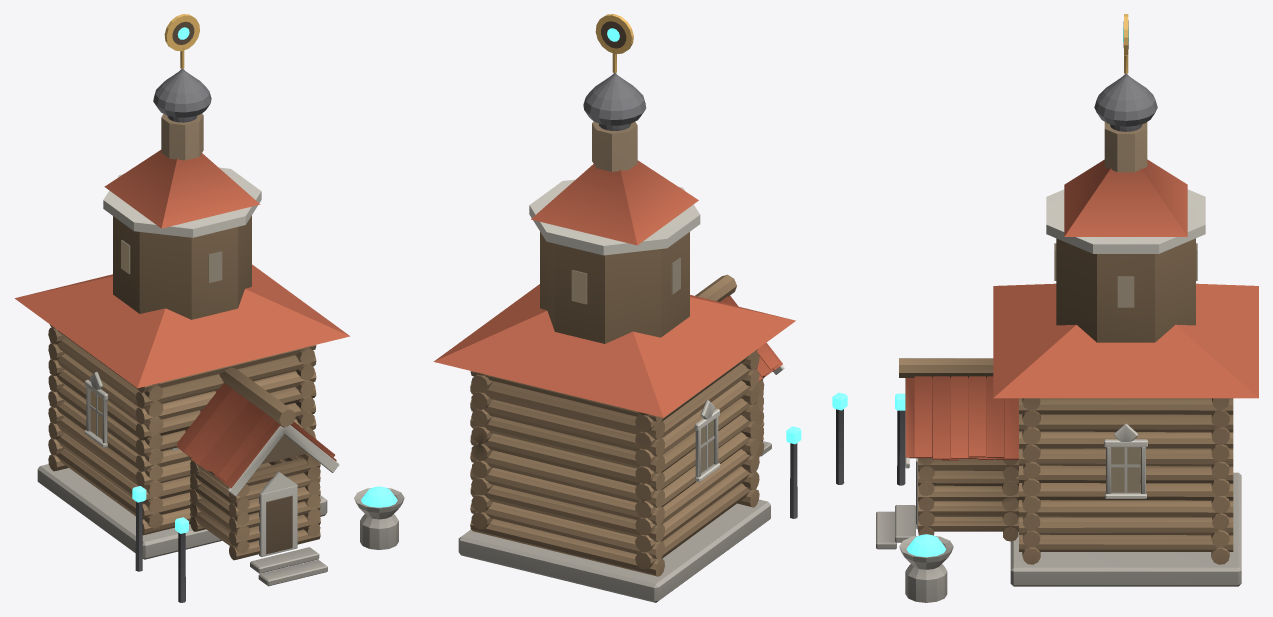
Rendered from bld_church_e1.glb.
3 views of the same model, side by side, from view 1: azimuth 30°, elevation 25°; view 2: azimuth 150°, elevation 25°; view 3: azimuth 270°, elevation 25° (orthographic). The views are drawn at different scales.
Visible parts, largest first — view 1: church; view 2: church; view 3: church.
Boxes of the visible parts, x1,y1,x2,y2 form: church: (15,14,404,602); church: (433,14,847,602); church: (876,14,1258,602).
Bounding box in the file's own units: 1.4 × 2.75 × 1.82.
